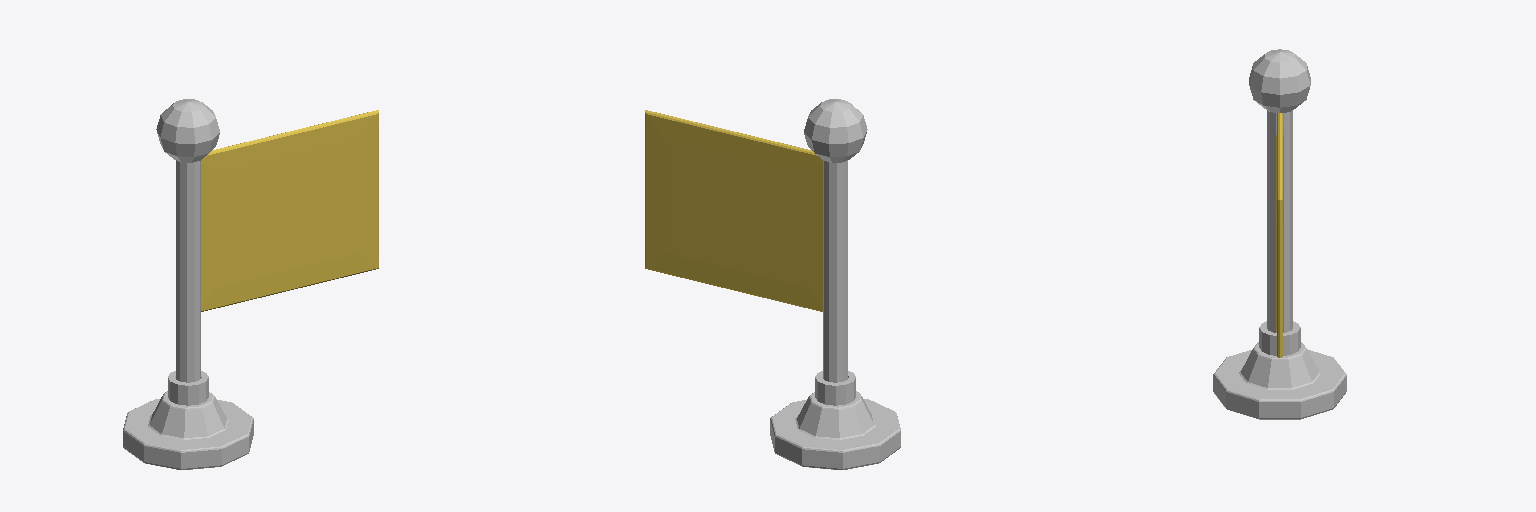
Rendered from checkpoint.obj.
3 renders of one model, left to right at view 1: azimuth 30°, elevation 25°; view 2: azimuth 150°, elevation 25°; view 3: azimuth 270°, elevation 25°, orthographic.
Visible parts, largest first — view 1: pCube1__Mt_Flag, pCylinder1__Mt_Gold, pCylinder2__Mt_Body, pPipe1__Mt_Body; view 2: pCube1__Mt_Flag, pCylinder1__Mt_Gold, pCylinder2__Mt_Body, pPipe1__Mt_Body; view 3: pCylinder1__Mt_Gold, pCylinder2__Mt_Body, pCube1__Mt_Flag, pPipe1__Mt_Body.
Boxes of the visible parts, x1=… form: pCube1__Mt_Flag: x1=201, y1=110, x2=378, y2=311; pCylinder1__Mt_Gold: x1=123, y1=99, x2=253, y2=469; pCylinder2__Mt_Body: x1=176, y1=160, x2=200, y2=382; pPipe1__Mt_Body: x1=168, y1=371, x2=208, y2=405; pCube1__Mt_Flag: x1=645, y1=110, x2=822, y2=311; pCylinder1__Mt_Gold: x1=770, y1=99, x2=900, y2=469; pCylinder2__Mt_Body: x1=823, y1=160, x2=847, y2=382; pPipe1__Mt_Body: x1=815, y1=371, x2=855, y2=405; pCylinder1__Mt_Gold: x1=1213, y1=49, x2=1346, y2=419; pCylinder2__Mt_Body: x1=1267, y1=110, x2=1292, y2=332; pCube1__Mt_Flag: x1=1276, y1=113, x2=1283, y2=357; pPipe1__Mt_Body: x1=1259, y1=321, x2=1300, y2=355.
Bounding box in the file's own units: 21.45 × 28.51 × 10.12.